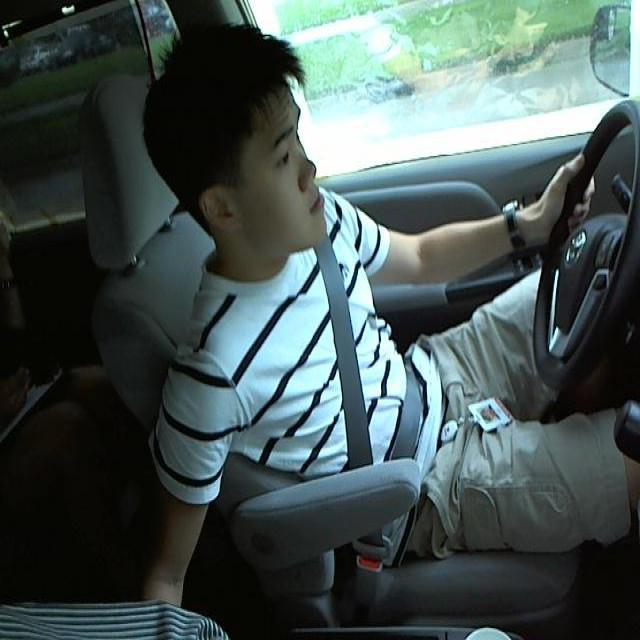seatbelt: (311, 247, 427, 461)
